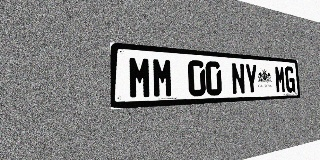0: (187, 60, 206, 97), (205, 61, 222, 96)
G: (285, 66, 295, 93)
M: (128, 56, 152, 99), (152, 57, 173, 98), (274, 65, 286, 93)
N: (231, 63, 246, 95)
Y: (245, 63, 258, 94)
